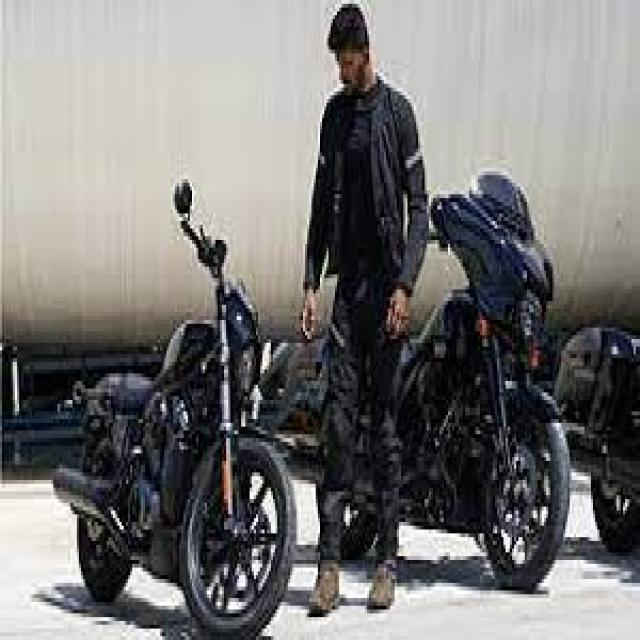Bike: (53, 176, 297, 640), (344, 168, 571, 591)
